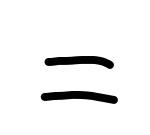eqv: (41, 57, 118, 105)
